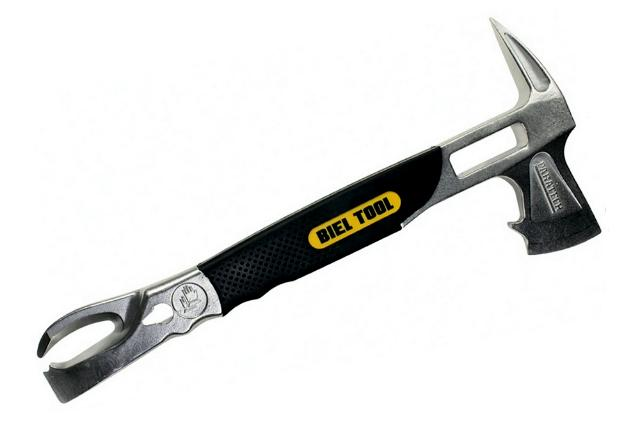hammer: (29, 12, 606, 408)
